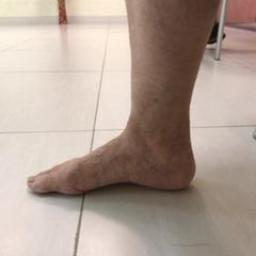Medial View -Right Foot-: (15, 94, 218, 214)
